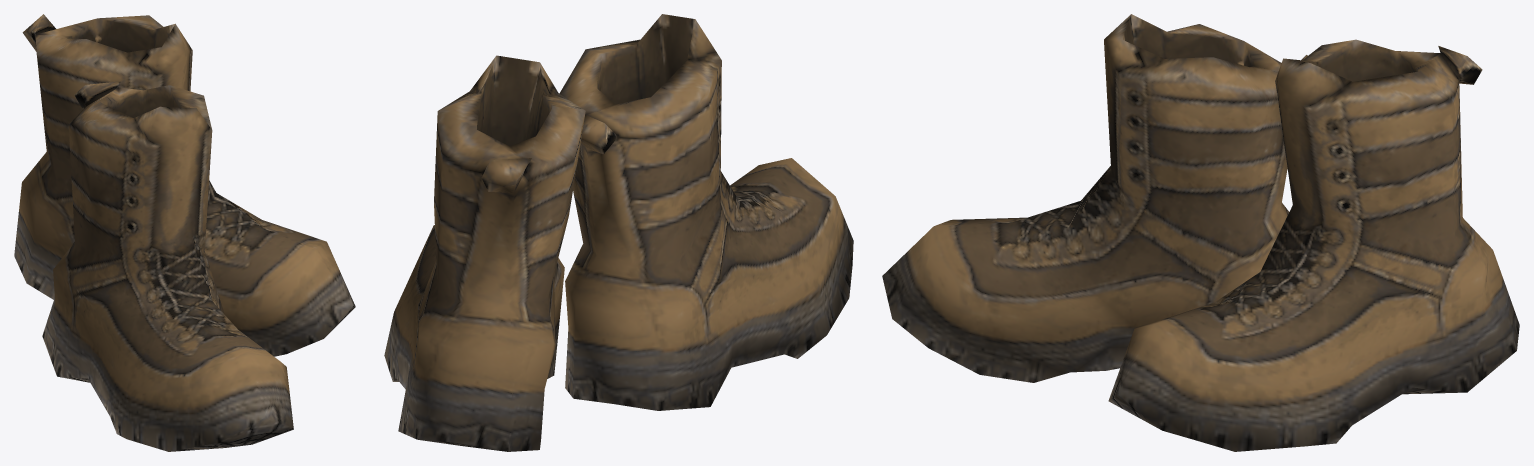
Rendered from Boots1_LOD1.fbx.
3 views of the same model, side by side, from view 1: azimuth 30°, elevation 25°; view 2: azimuth 150°, elevation 25°; view 3: azimuth 270°, elevation 25° (orthographic). The views are drawn at different scales.
Visible parts, largest first — view 1: polySurface22; view 2: polySurface22; view 3: polySurface22.
Part boxes in pixels (x1,y1,x2,y2): polySurface22: (14,14,355,451); polySurface22: (384,14,853,451); polySurface22: (882,14,1519,451).
Bounding box in the file's own units: 0.391 × 0.4014 × 0.6648.
